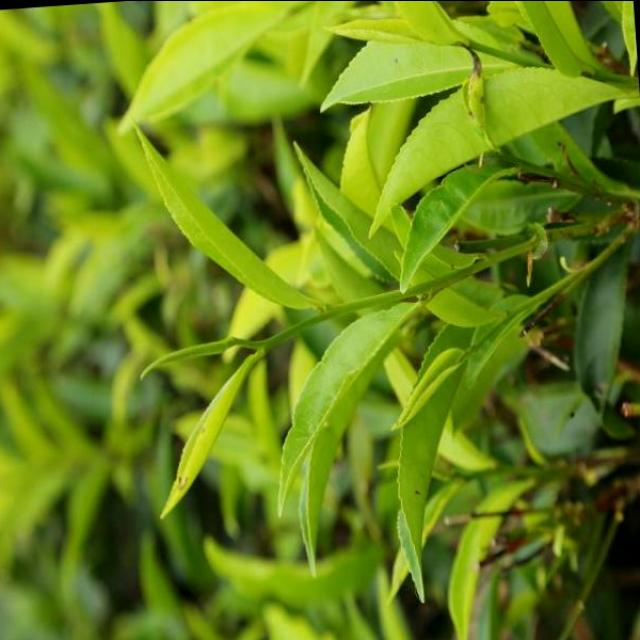Stem: (259, 335, 279, 352)
